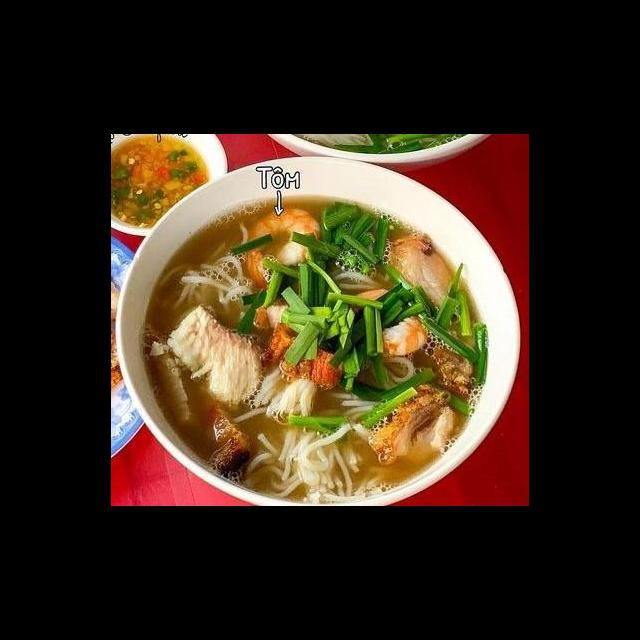bun: (250, 366, 406, 506), (154, 236, 258, 325)
ca: (162, 303, 271, 408)
thit heo quay: (369, 380, 459, 467), (263, 317, 352, 393), (196, 392, 258, 489)
tom: (245, 203, 326, 295), (344, 284, 433, 362)
